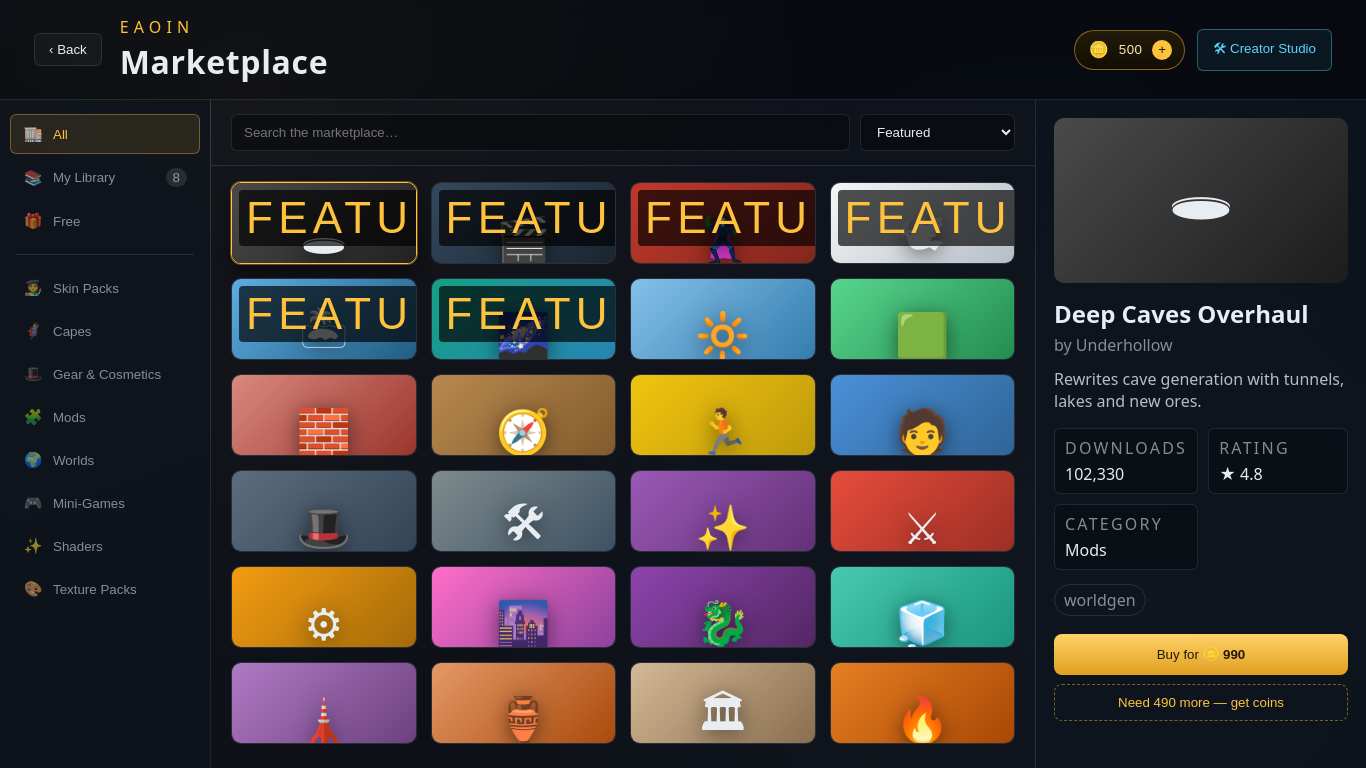
MarketplaceScreen › warns that the sandbox provider takes no real payment
Click the button with class "mk-coin-pill": (1130, 50) [1074,30,1185,70]
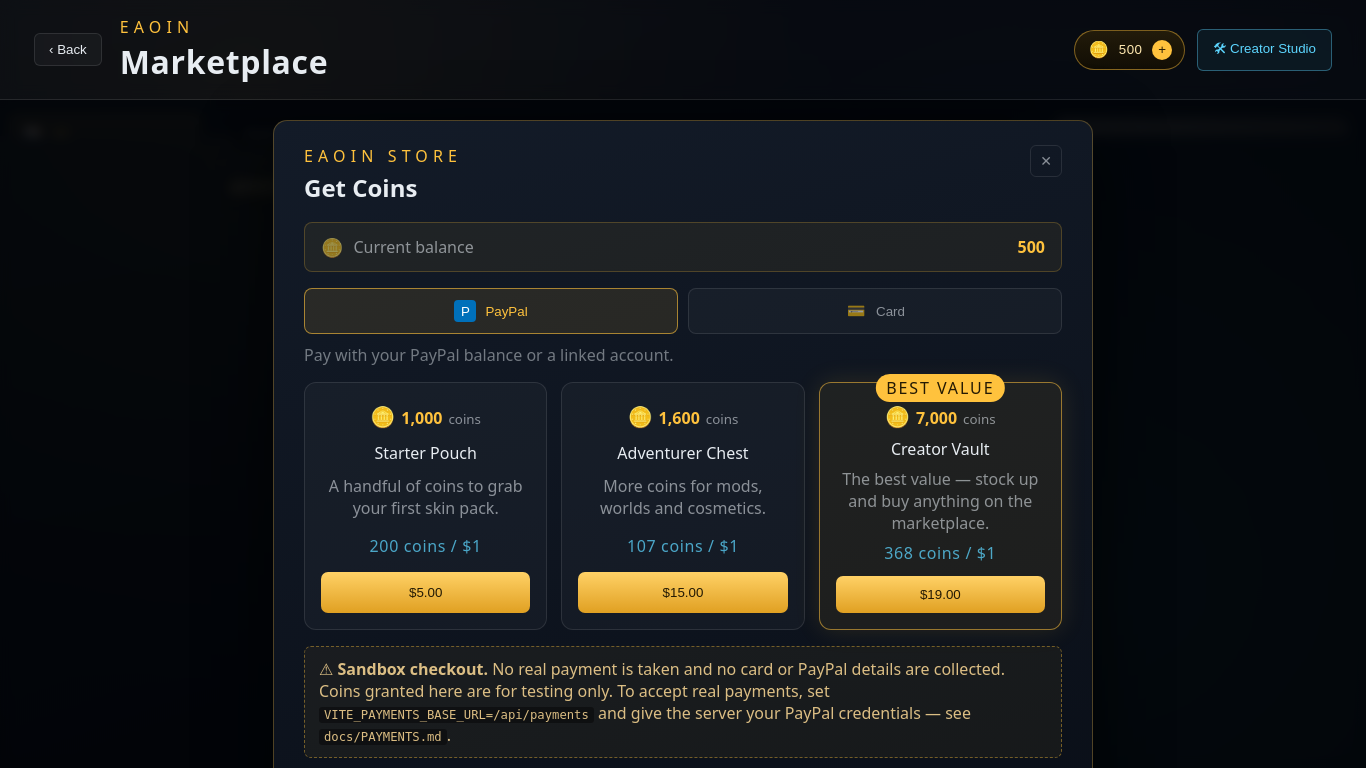
Check: the element with class "cs-sandbox-note" shows "No real payment", box [319,658,1005,702]
